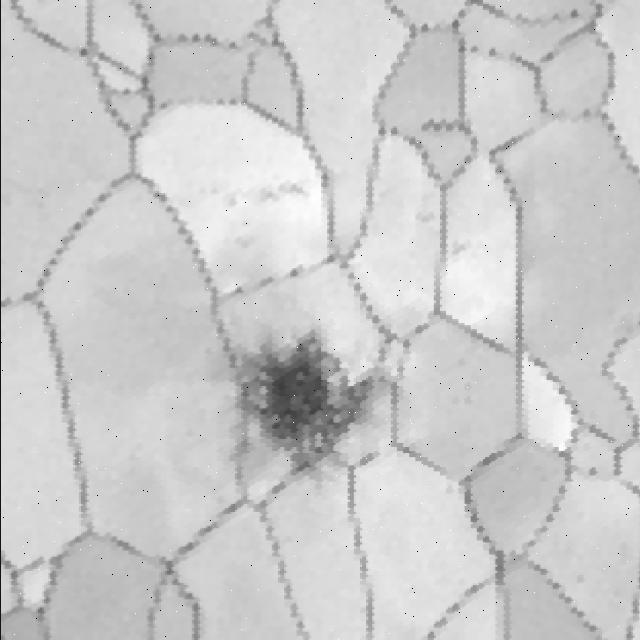good_void: (206, 315, 395, 494), (200, 169, 311, 280), (448, 239, 467, 261), (409, 211, 434, 227)
